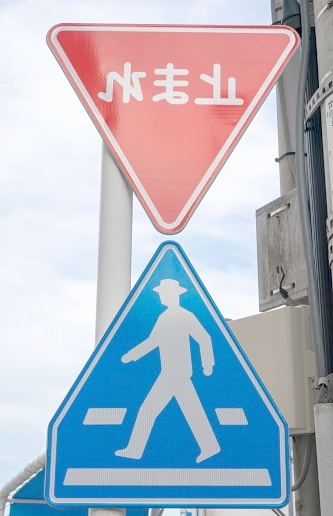Regulatory_sign_triangle: (42, 13, 314, 253)
